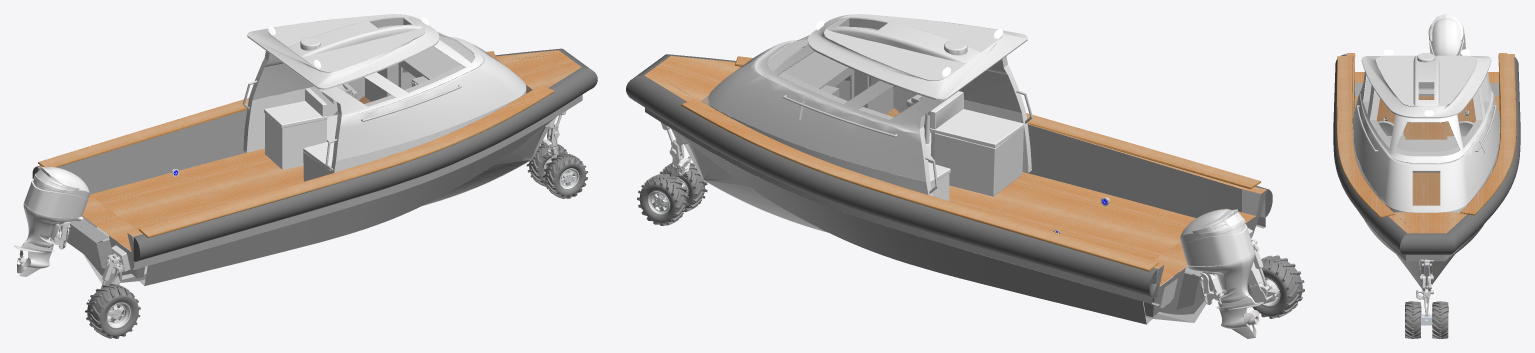
File: amphibious-10-2m.glb
3 renders of one model, left to right at view 1: azimuth 30°, elevation 25°; view 2: azimuth 150°, elevation 25°; view 3: azimuth 270°, elevation 25°, orthographic. The views are drawn at different scales.
Parts seen in each view (by area): view 1: 10.2m amphi luxury-cabine-3-1, stream cab-1, waking pad2-2, yamaha 250 hp-2, back seat-3, S45 STERN STBD - DOWN-1, S45 BOW LEG - DOWN-1, waking pad2-1, back seat 2-1, IC engine box-1; view 2: 10.2m amphi luxury-cabine-3-1, stream cab-1, yamaha 250 hp-2, waking pad2-1, IC engine box-1, S45 BOW LEG - DOWN-1, S45 STERN STBD - DOWN-1, waking pad2-2, back seat 2-1, back seat-3; view 3: stream cab-1, 10.2m amphi luxury-cabine-3-1, waking pad2-2, waking pad2-1, S45 BOW LEG - DOWN-1, yamaha 250 hp-2, 3d seat-4, 3d seat-2.
Part boxes in pixels (<box>): 10.2m amphi luxury-cabine-3-1: <box>32,48,597,285</box>; stream cab-1: <box>242,14,526,173</box>; waking pad2-2: <box>139,85,554,237</box>; yamaha 250 hp-2: <box>14,167,89,276</box>; back seat-3: <box>264,88,327,169</box>; S45 STERN STBD - DOWN-1: <box>85,245,140,338</box>; S45 BOW LEG - DOWN-1: <box>526,111,588,198</box>; waking pad2-1: <box>38,51,496,167</box>; back seat 2-1: <box>303,141,334,170</box>; IC engine box-1: <box>303,152,330,181</box>; 10.2m amphi luxury-cabine-3-1: <box>626,54,1272,324</box>; stream cab-1: <box>708,14,1032,196</box>; yamaha 250 hp-2: <box>1180,209,1263,338</box>; waking pad2-1: <box>681,99,1158,271</box>; IC engine box-1: <box>930,127,1023,196</box>; S45 BOW LEG - DOWN-1: <box>637,122,707,225</box>; S45 STERN STBD - DOWN-1: <box>1247,228,1304,318</box>; waking pad2-2: <box>735,56,1260,189</box>; back seat 2-1: <box>930,91,1023,147</box>; back seat-3: <box>928,162,950,200</box>; stream cab-1: <box>1352,53,1500,212</box>; 10.2m amphi luxury-cabine-3-1: <box>1333,53,1520,289</box>; waking pad2-2: <box>1336,55,1394,217</box>; waking pad2-1: <box>1460,54,1516,215</box>; S45 BOW LEG - DOWN-1: <box>1405,259,1448,338</box>; yamaha 250 hp-2: <box>1428,14,1465,55</box>; 3d seat-4: <box>1458,121,1473,136</box>; 3d seat-2: <box>1378,121,1393,135</box>.
Size of the model in its own units: 9.55 by 3.48 by 3.3.
Materials: 87 (5 with a texture image).
